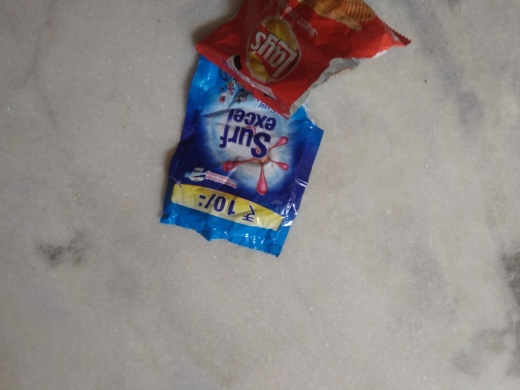lays: (193, 1, 407, 102)
surf: (156, 58, 330, 256)
